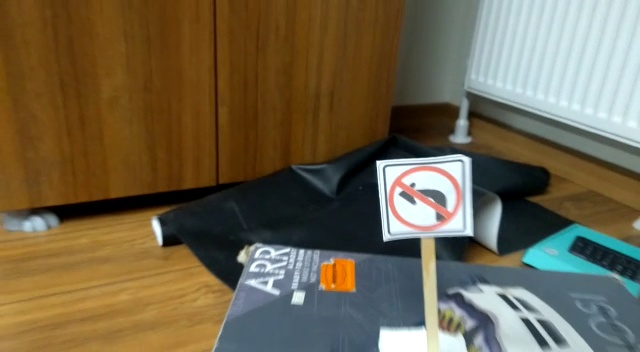sola_donulmez: (384, 159, 468, 232)
